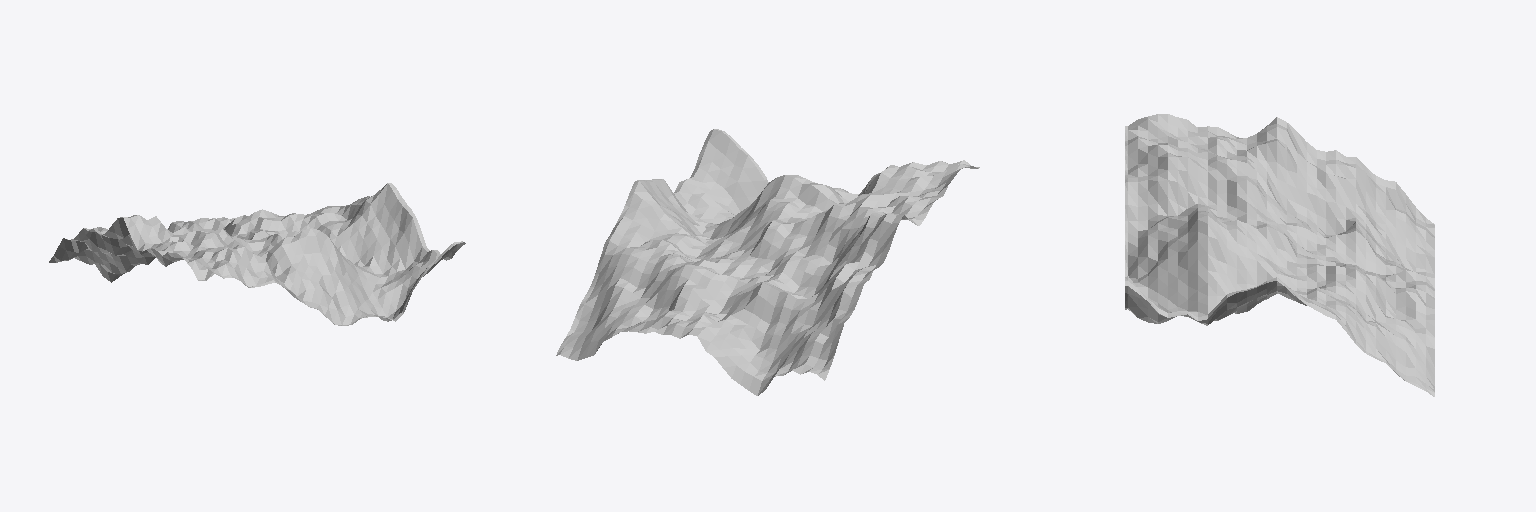
File: terrain_1_4.obj
3 views of the same model, side by side, from view 1: azimuth 30°, elevation 25°; view 2: azimuth 150°, elevation 25°; view 3: azimuth 270°, elevation 25° (orthographic).
Visible parts, largest first — view 1: terrain_1_4_Plane.029; view 2: terrain_1_4_Plane.029; view 3: terrain_1_4_Plane.029.
Part boxes in pixels (left/top/right/bottom): terrain_1_4_Plane.029: left=49, top=183, right=465, bottom=325; terrain_1_4_Plane.029: left=556, top=129, right=979, bottom=395; terrain_1_4_Plane.029: left=1125, top=114, right=1434, bottom=396.
Size of the model in its own units: 32 by 17.36 by 32.